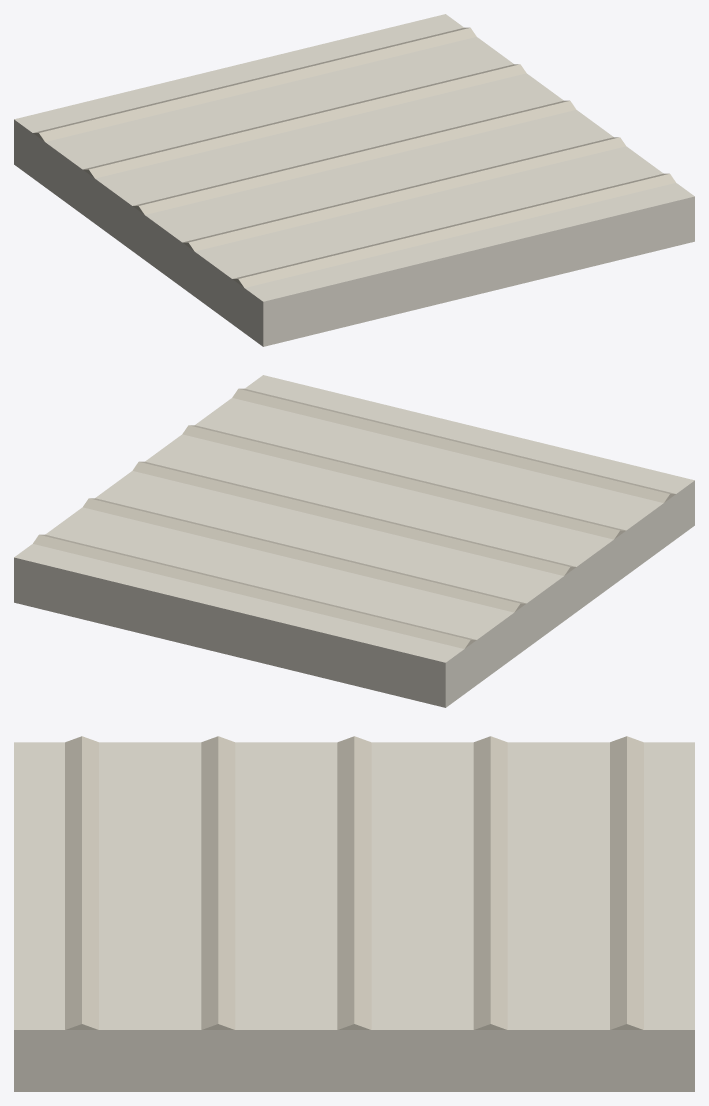
File: sakura_floor_gravel_raked.glb
3 renders of one model, top to bottom at view 1: azimuth 30°, elevation 25°; view 2: azimuth 150°, elevation 25°; view 3: azimuth 270°, elevation 25°, orthographic. The views are drawn at different scales.
Parts seen in each view (by area): view 1: sakura_floor_gravel_raked; view 2: sakura_floor_gravel_raked; view 3: sakura_floor_gravel_raked.
Part boxes in pixels (bbox=[...]): sakura_floor_gravel_raked: bbox=[14, 14, 694, 346]; sakura_floor_gravel_raked: bbox=[14, 375, 694, 707]; sakura_floor_gravel_raked: bbox=[14, 736, 694, 1091].
Bounding box in the file's own units: 1 × 0.11 × 1.
1 material, 1 textured.
